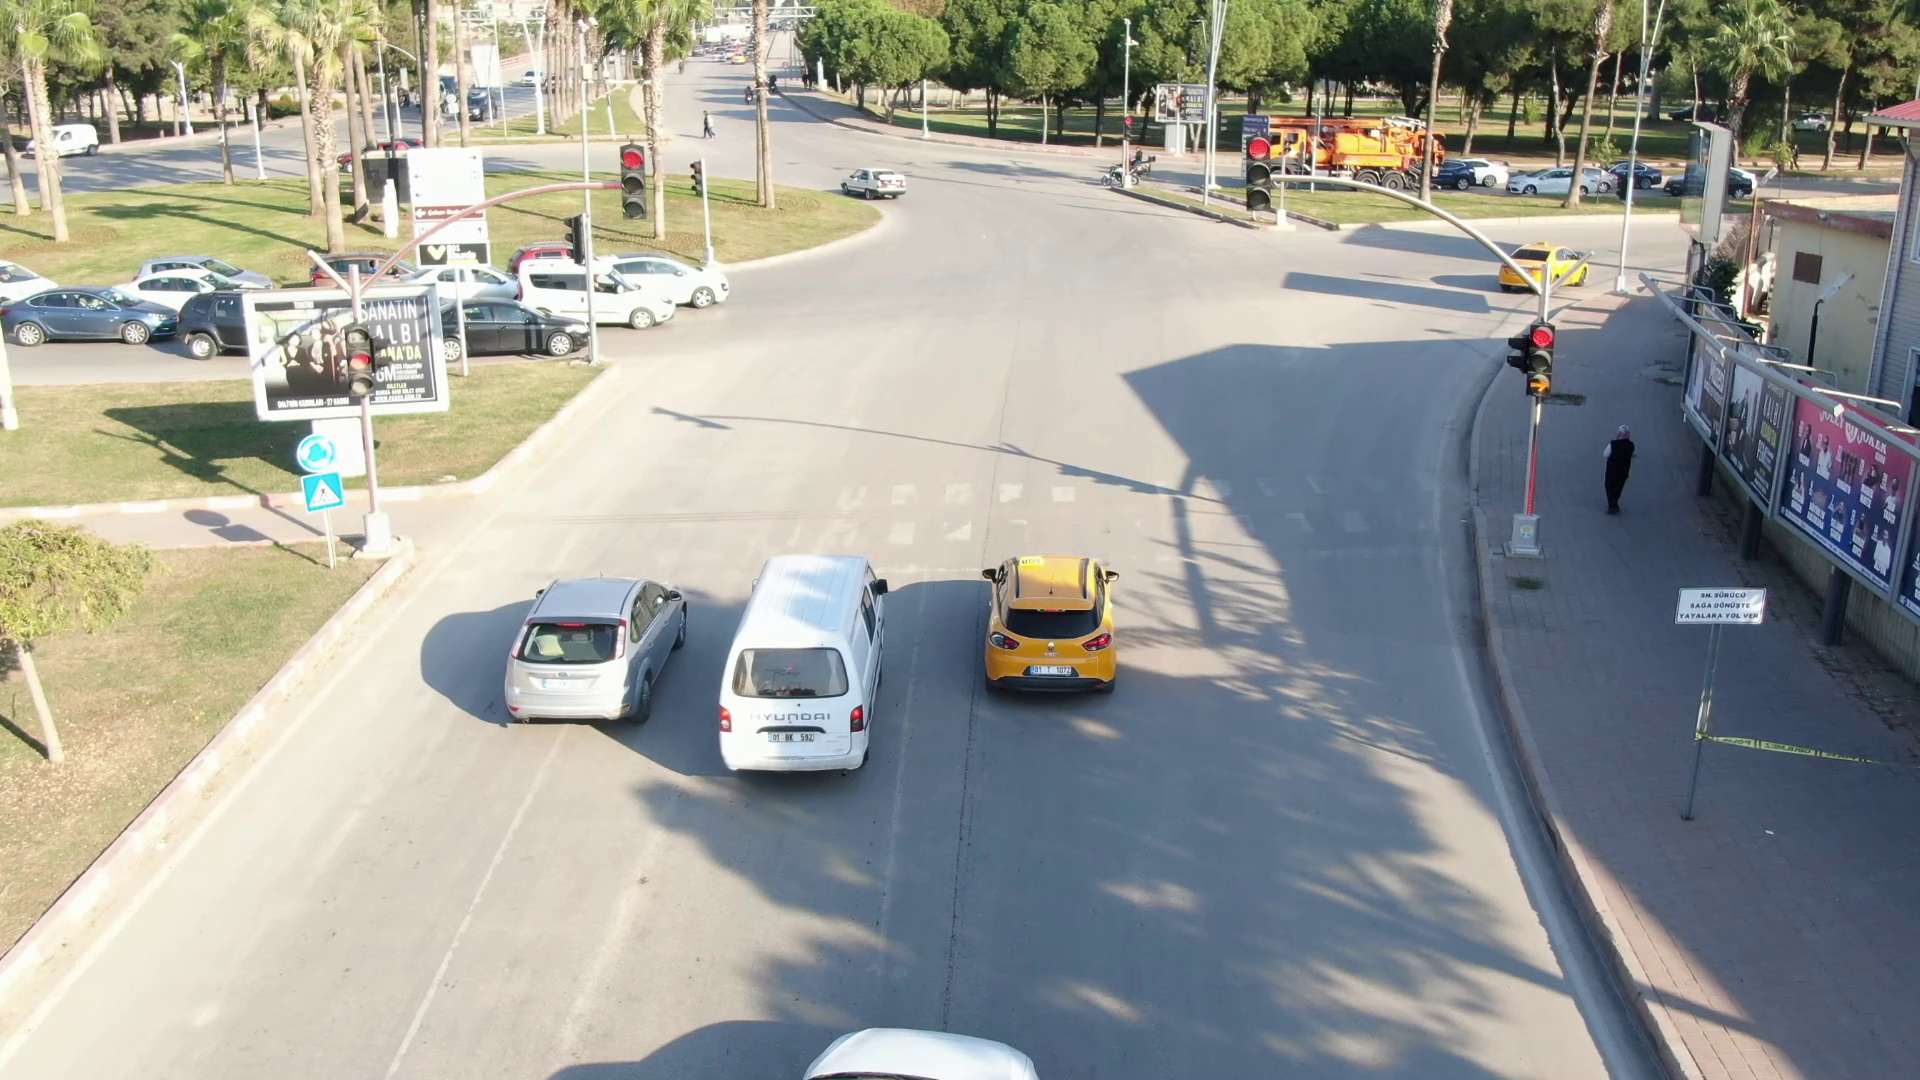car: (717, 555, 888, 778), (490, 566, 688, 731), (963, 543, 1131, 698), (508, 255, 676, 319), (439, 294, 592, 359), (604, 253, 729, 308), (1500, 237, 1594, 298), (837, 163, 908, 206)
person: (1600, 414, 1637, 525)
